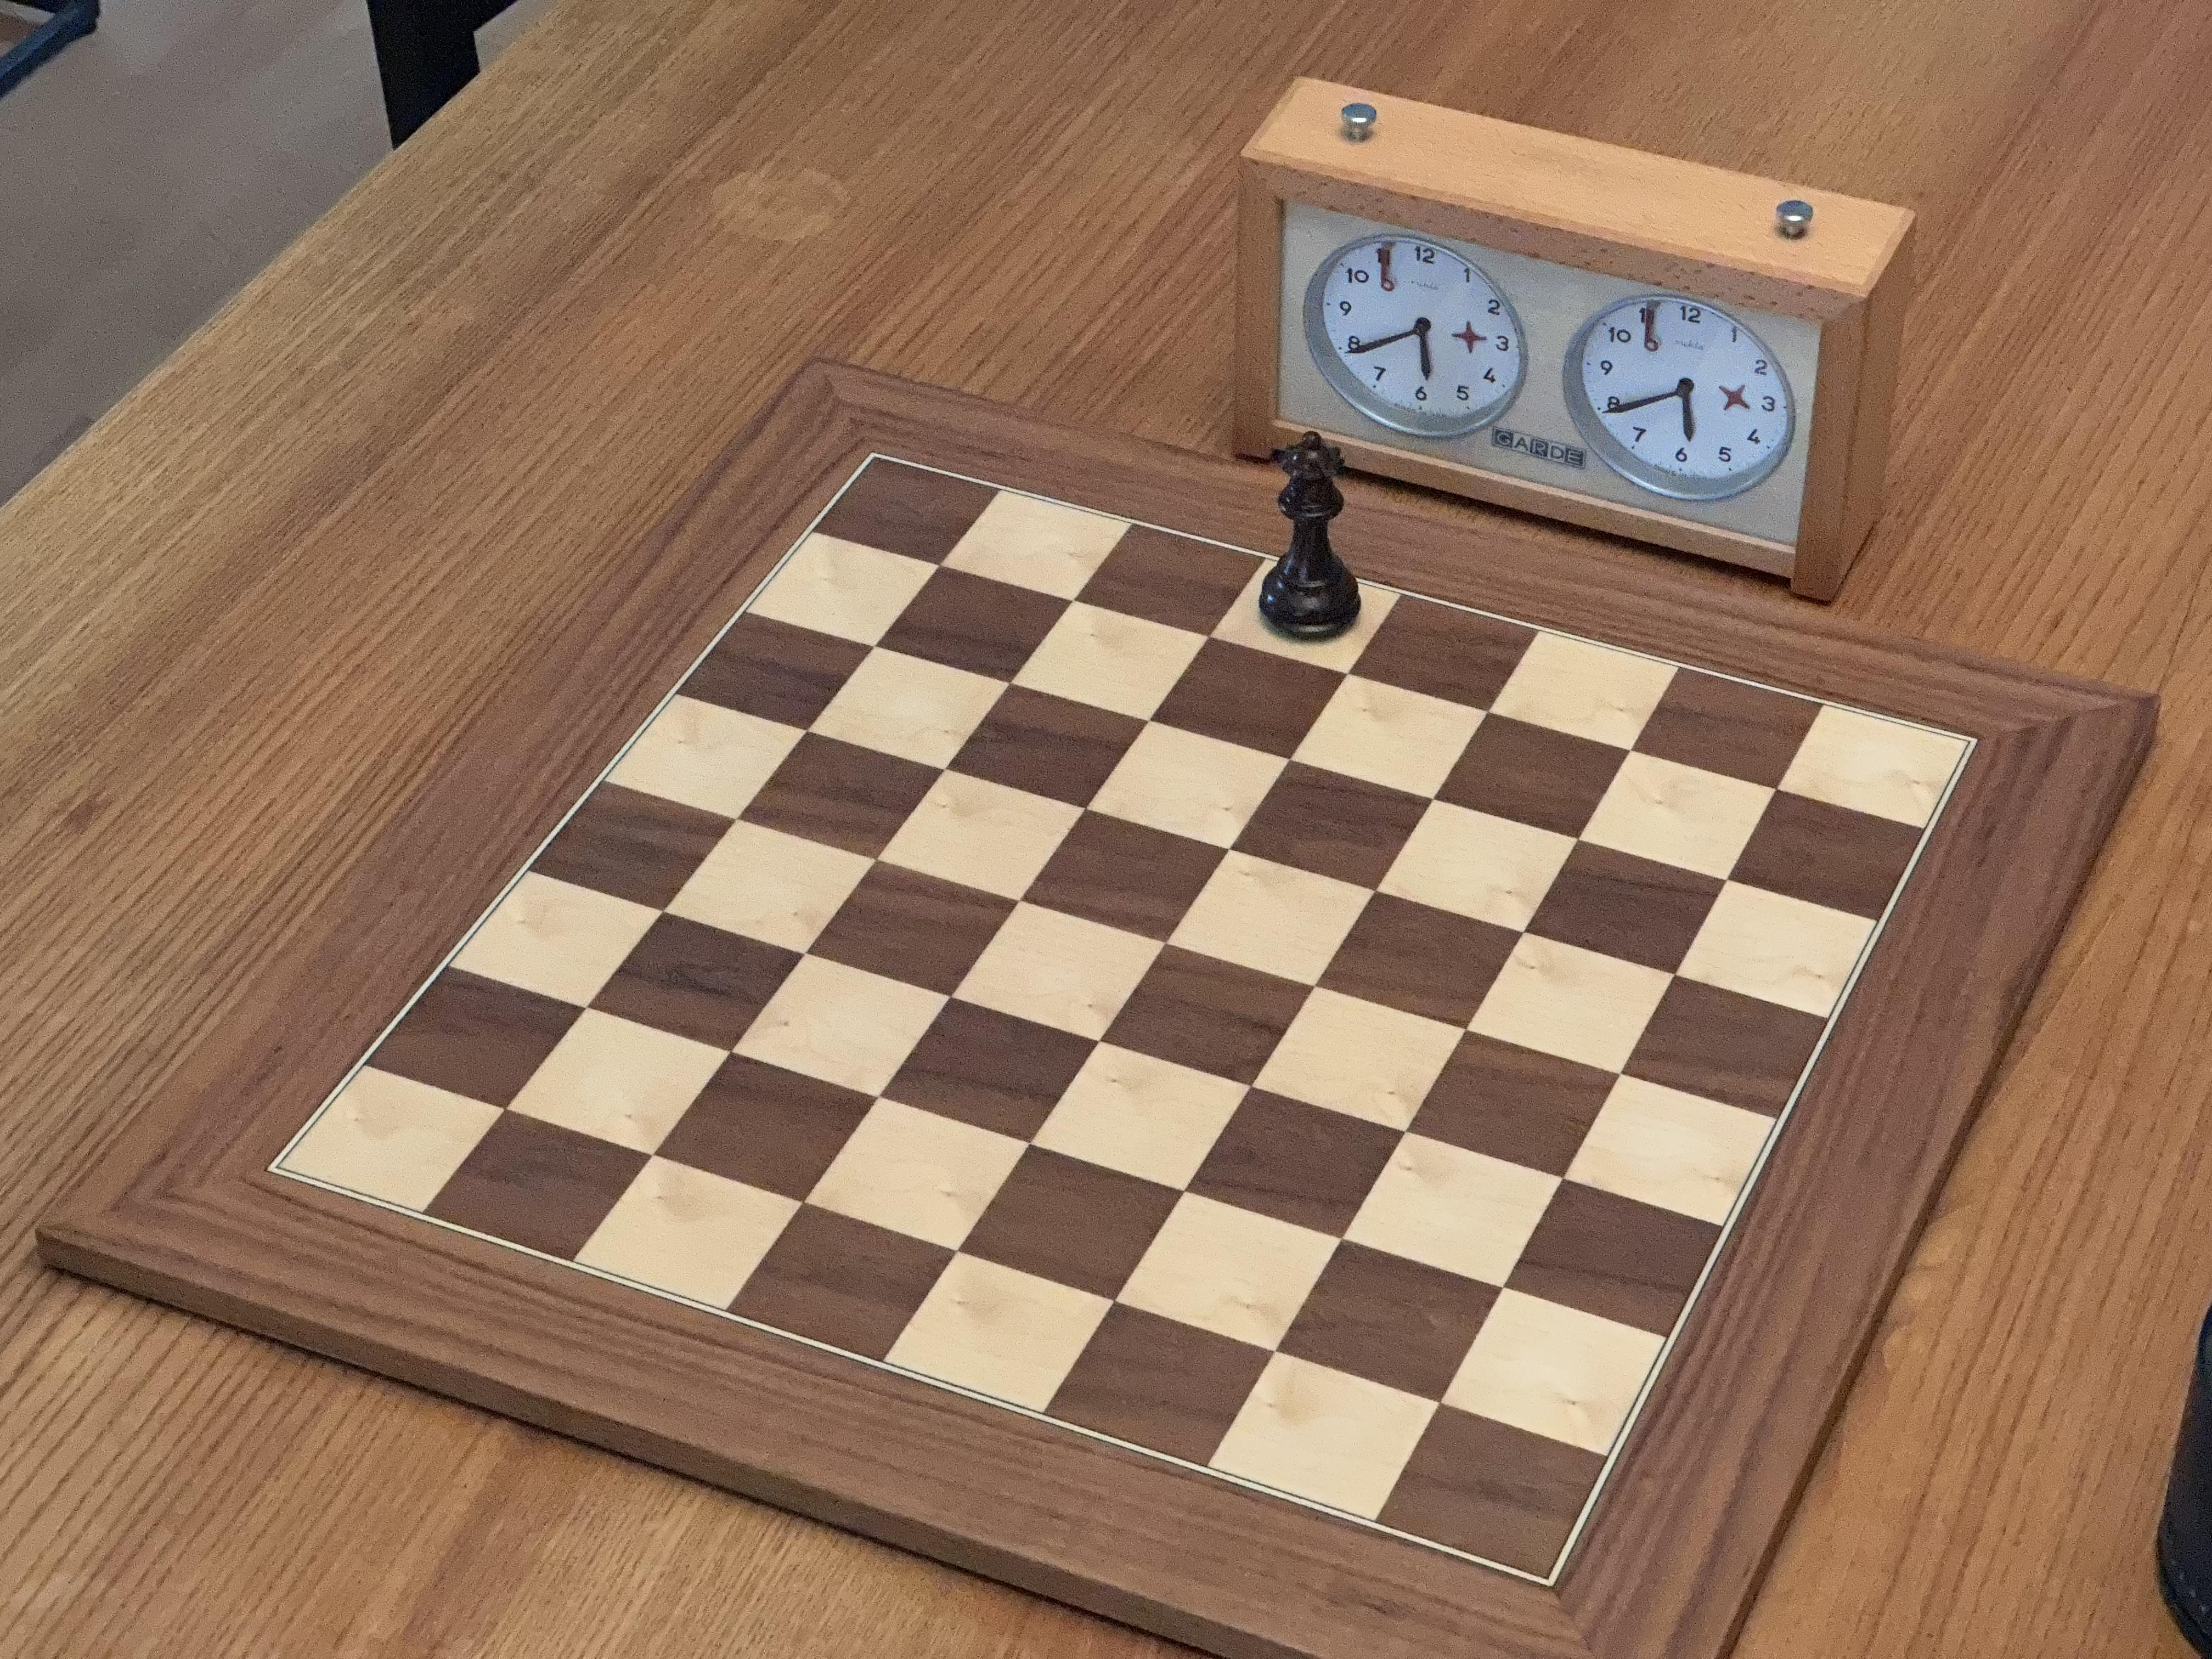Black Queen: (1249, 429, 1371, 653)
